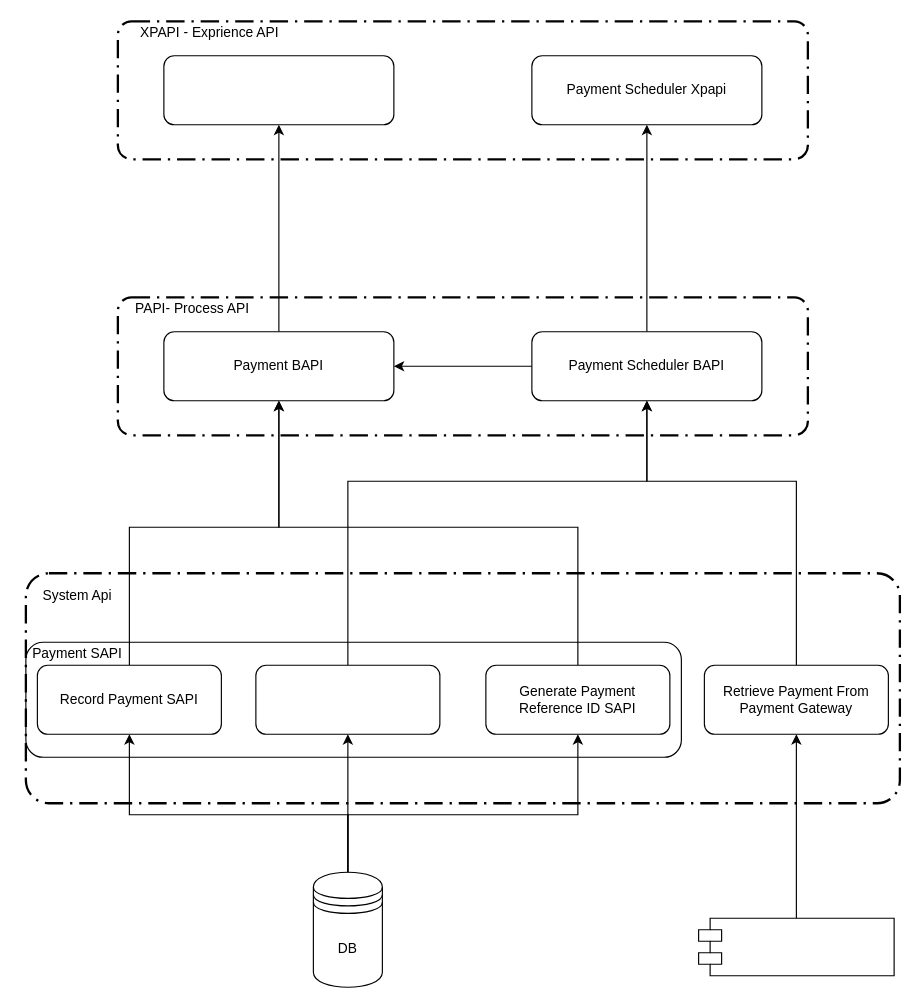
This 920x1007 diagram has some shape labels left out. The centre of each missing label's shape, as x and y in pixels:
External Payment Gateway API: (x=795, y=946)
Payment Xpapi: (x=278, y=90)
Retrieve Payment SAPI: (x=347, y=699)
